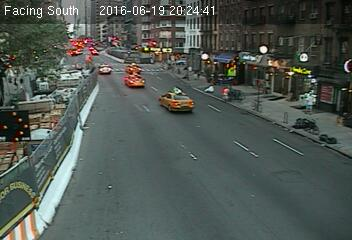neg: (3, 68, 26, 100), (223, 63, 243, 90), (261, 73, 279, 97)
pos: (299, 90, 322, 121)
